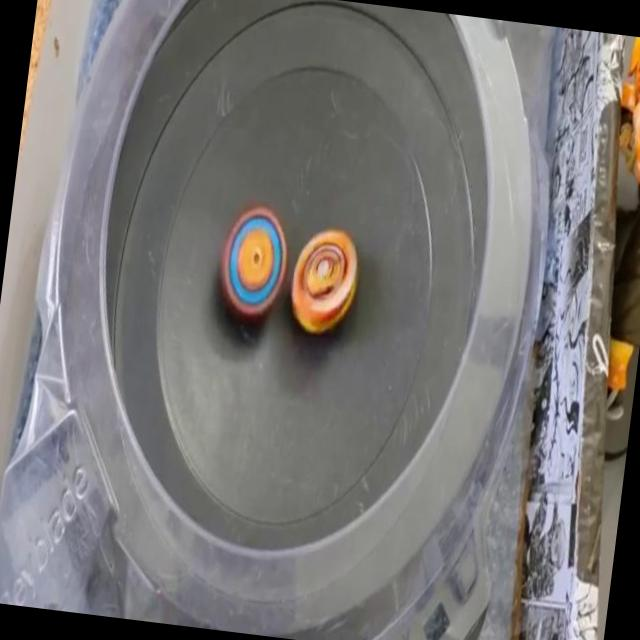Beyblade: (211, 200, 294, 326), (284, 224, 362, 340)
